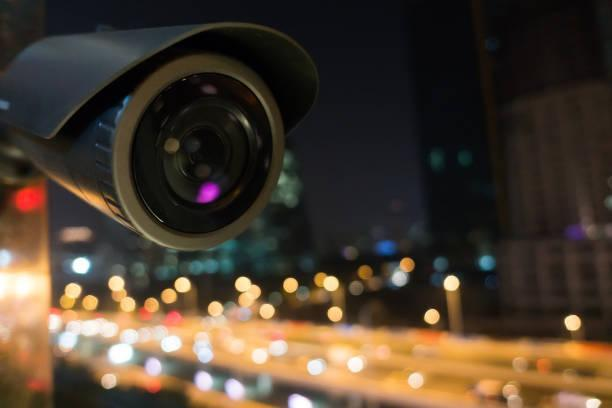camera: (10, 14, 341, 258)
